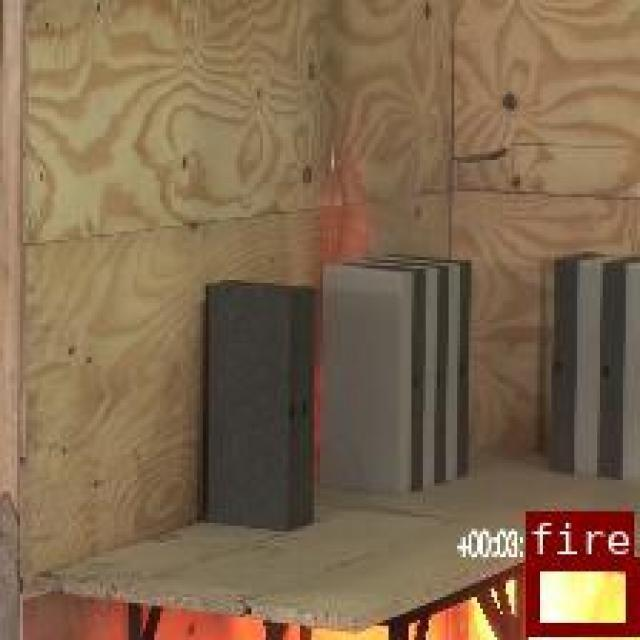fire: (524, 556, 635, 632)
